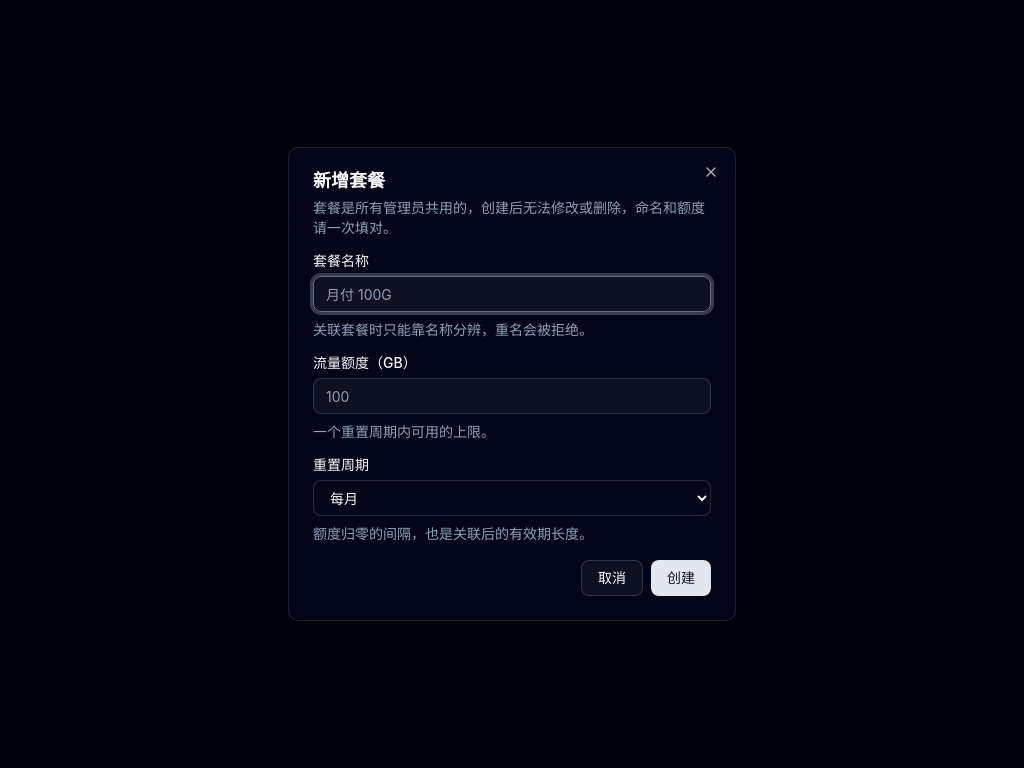
Test case: PlanFormDialog › refuses to submit a non-positive quota
The image size is (1024, 768).
Type "月付" into the field labelled "套餐名称".
click(512, 294); type("月付")  # box [313, 276, 711, 312]
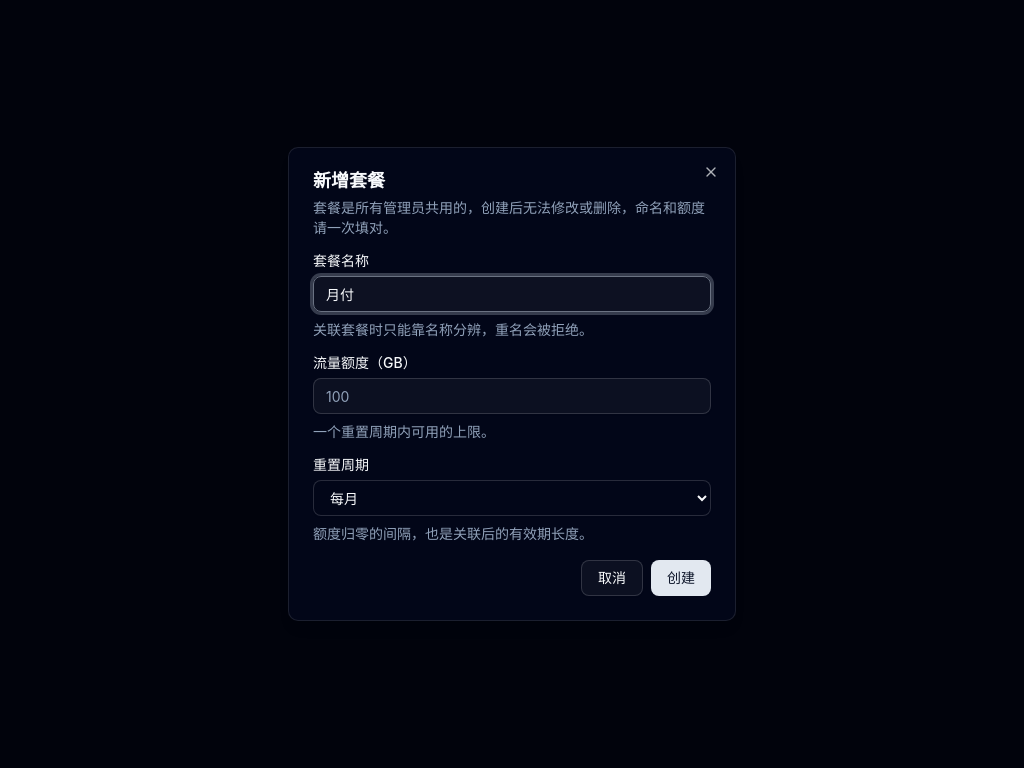
Type "0" into the number field labelled "流量额度（GB）".
click(512, 396); type("0")  # box [313, 378, 711, 414]
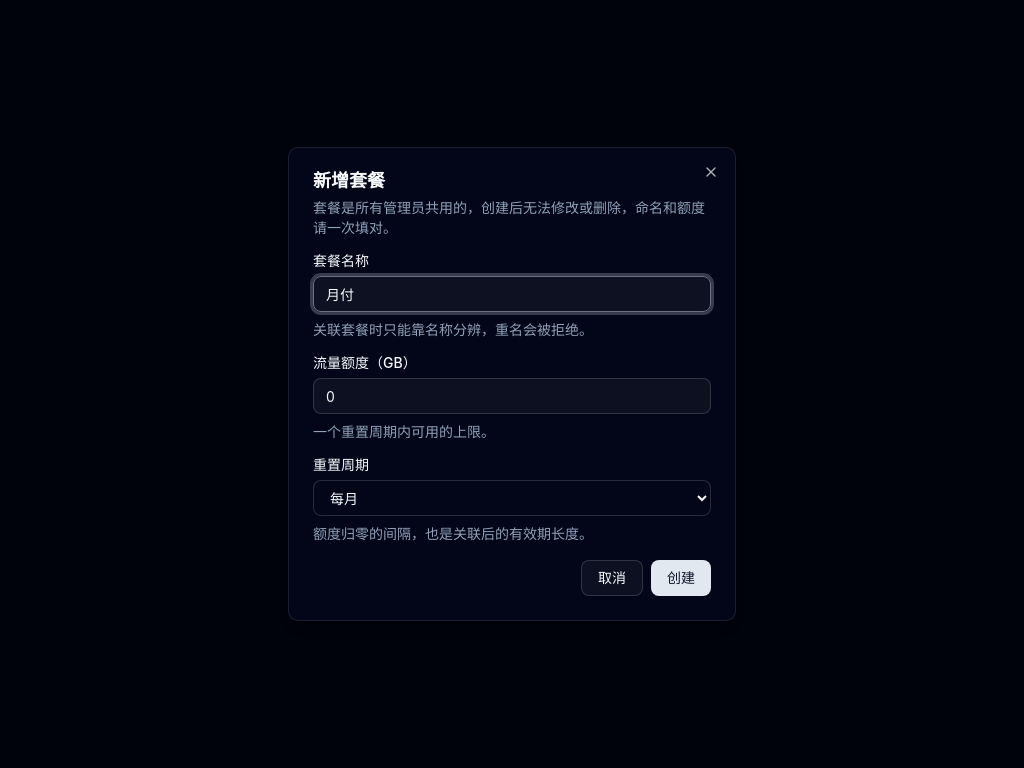
Click the button "创建".
click(681, 578)  # box [651, 560, 711, 596]
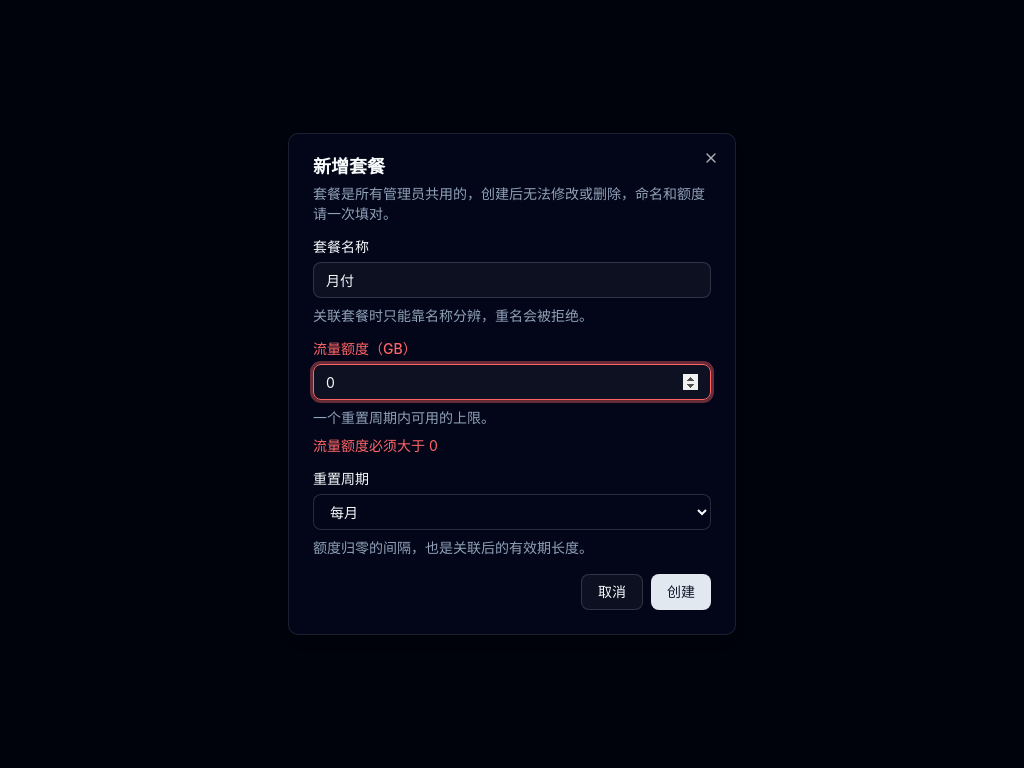
expect the text "流量额度必须大于 0" is shown: met, box [313, 437, 438, 454]
